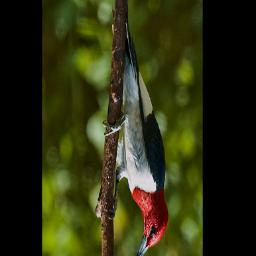Woodpecker: (103, 11, 169, 256)
